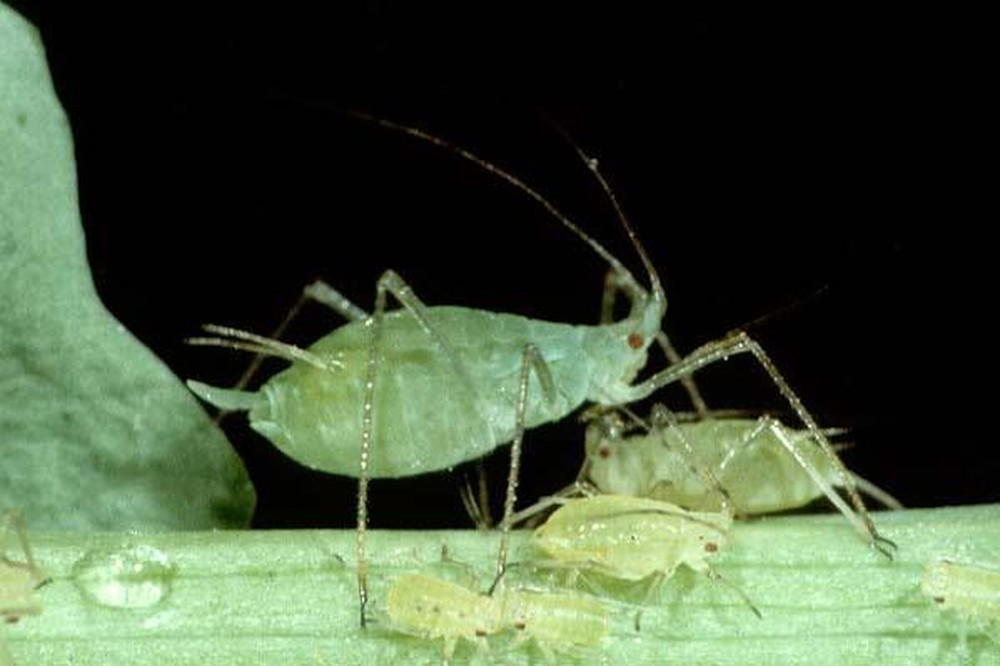Pulgon: (182, 169, 814, 534), (559, 381, 908, 558), (517, 494, 770, 629), (356, 548, 516, 657), (496, 576, 629, 664)
